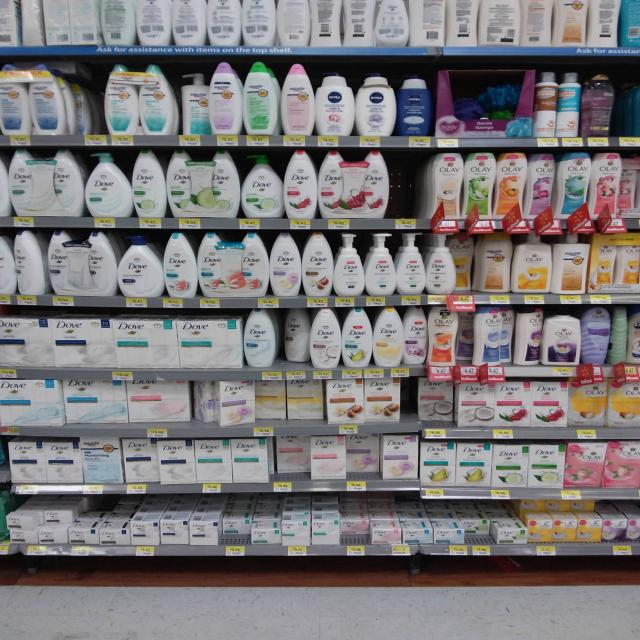void: (392, 148, 432, 220), (65, 64, 102, 132)
